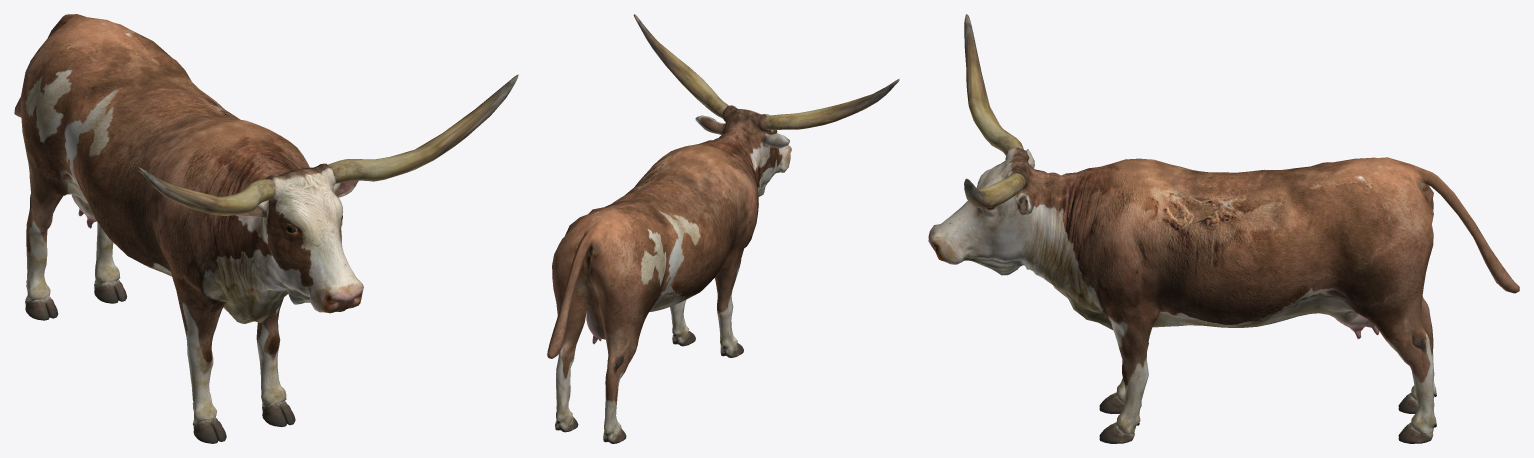
File: buka.obj
3 views of the same model, side by side, from view 1: azimuth 30°, elevation 25°; view 2: azimuth 150°, elevation 25°; view 3: azimuth 270°, elevation 25° (orthographic). The views are drawn at different scales.
Visible parts, largest first — view 1: mesh_0, mesh_0.002; view 2: mesh_0, mesh_0.002; view 3: mesh_0, mesh_0.002.
Part boxes in pixels (box(x1,y1,x2,y2)): mesh_0: box(14, 14, 363, 443); mesh_0.002: box(137, 74, 518, 215); mesh_0: box(547, 105, 791, 443); mesh_0.002: box(633, 14, 899, 129); mesh_0: box(928, 147, 1519, 443); mesh_0.002: box(964, 14, 1025, 208).
Bounding box in the file's own units: 5.58 × 5.18 × 8.46.
